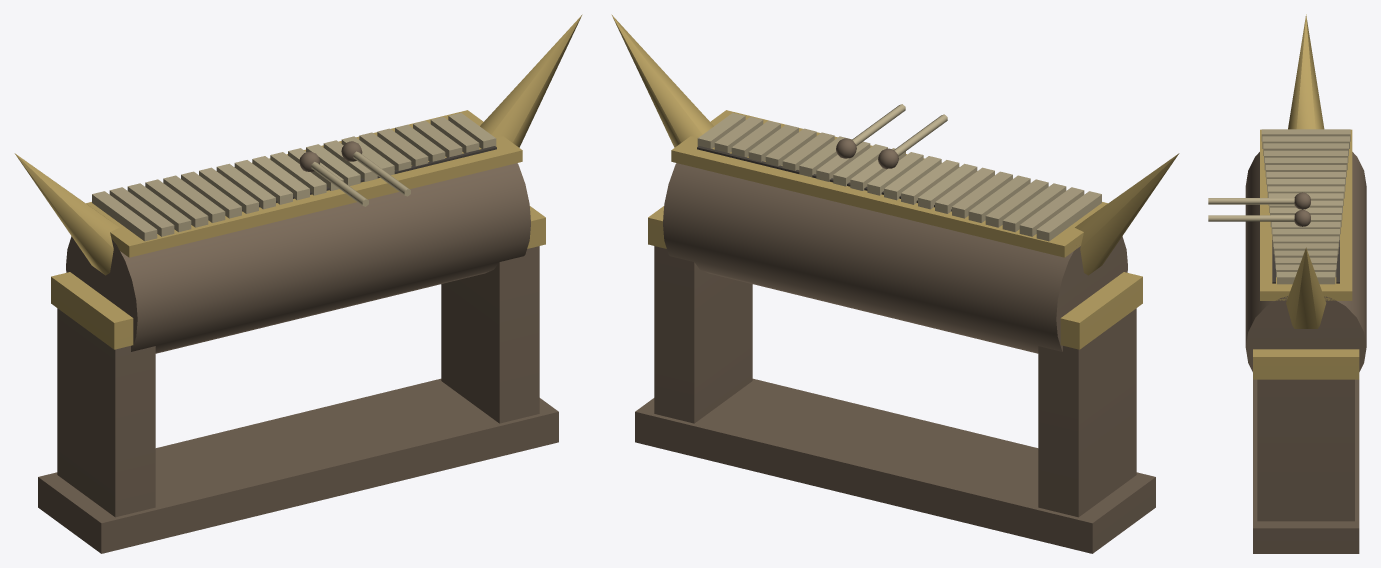
Rendered from roneat.glb.
3 renders of one model, left to right at view 1: azimuth 30°, elevation 25°; view 2: azimuth 150°, elevation 25°; view 3: azimuth 270°, elevation 25°, orthographic. The views are drawn at different scales.
Size of the model in its own units: 3.11 by 2.05 by 0.89.
